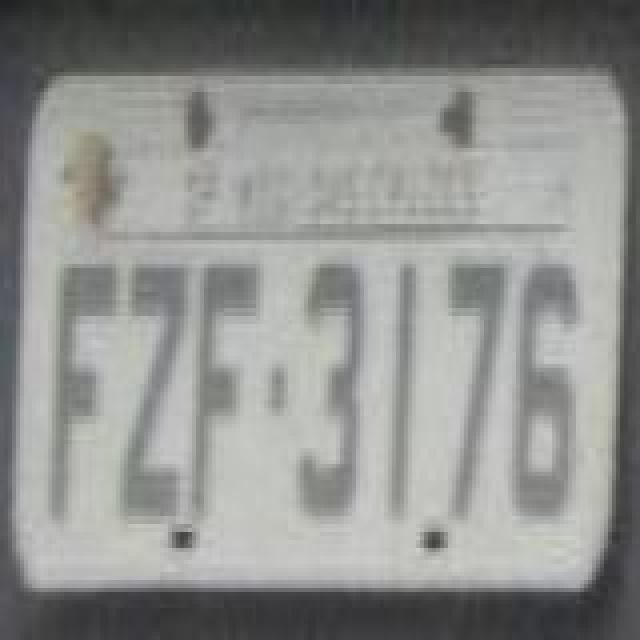1: (382, 262, 418, 522)
3: (290, 258, 366, 526)
6: (508, 258, 580, 526)
7: (442, 258, 510, 526)
F: (48, 258, 120, 526), (188, 262, 260, 522)
Z: (120, 262, 192, 522)
